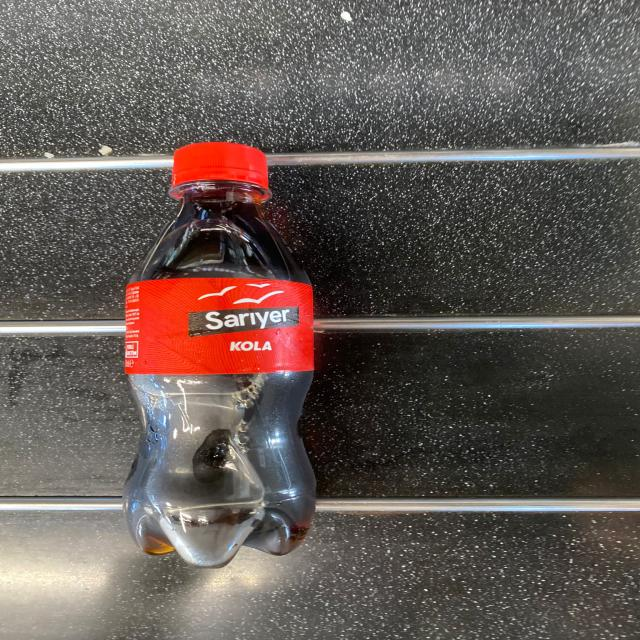yan_yemek: (120, 140, 318, 568)
